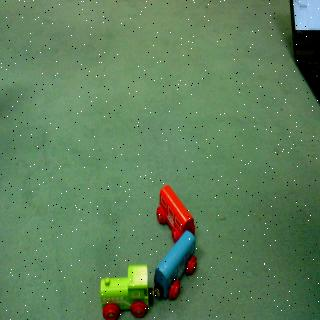train: (95, 183, 199, 320)
